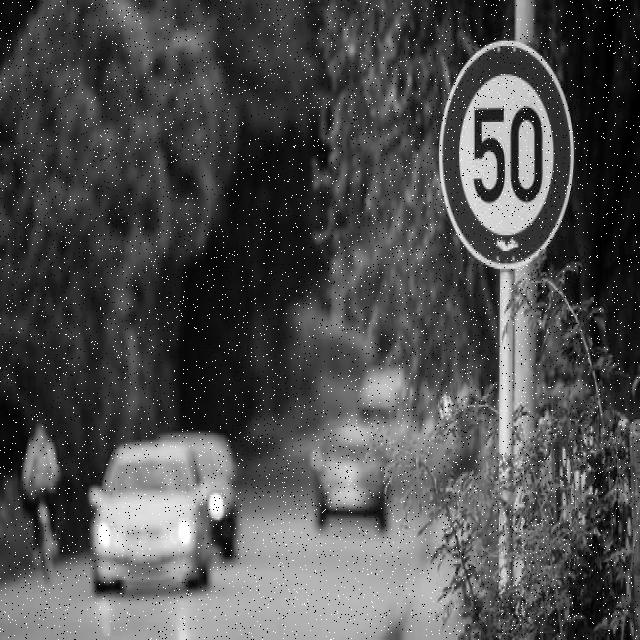speed_limit_50: (438, 37, 582, 269)
